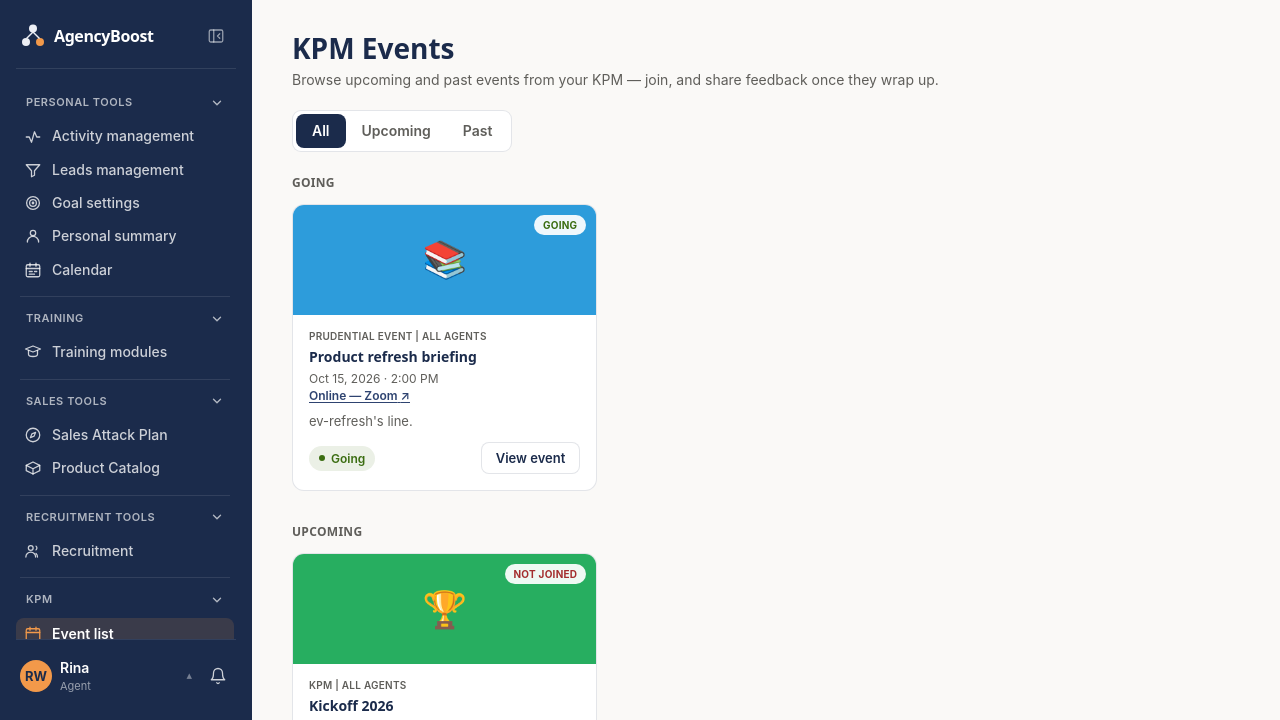
Test: /events, KPM Events (P18.5-T5, T6) › the list, verbatim (T5 AC-4) › P18.5-T5 AC-4 Upcoming shows Going and Upcoming, Past only the past
Step 1. Click the button "Upcoming" → [396, 131], box 346,114 -> 447,148
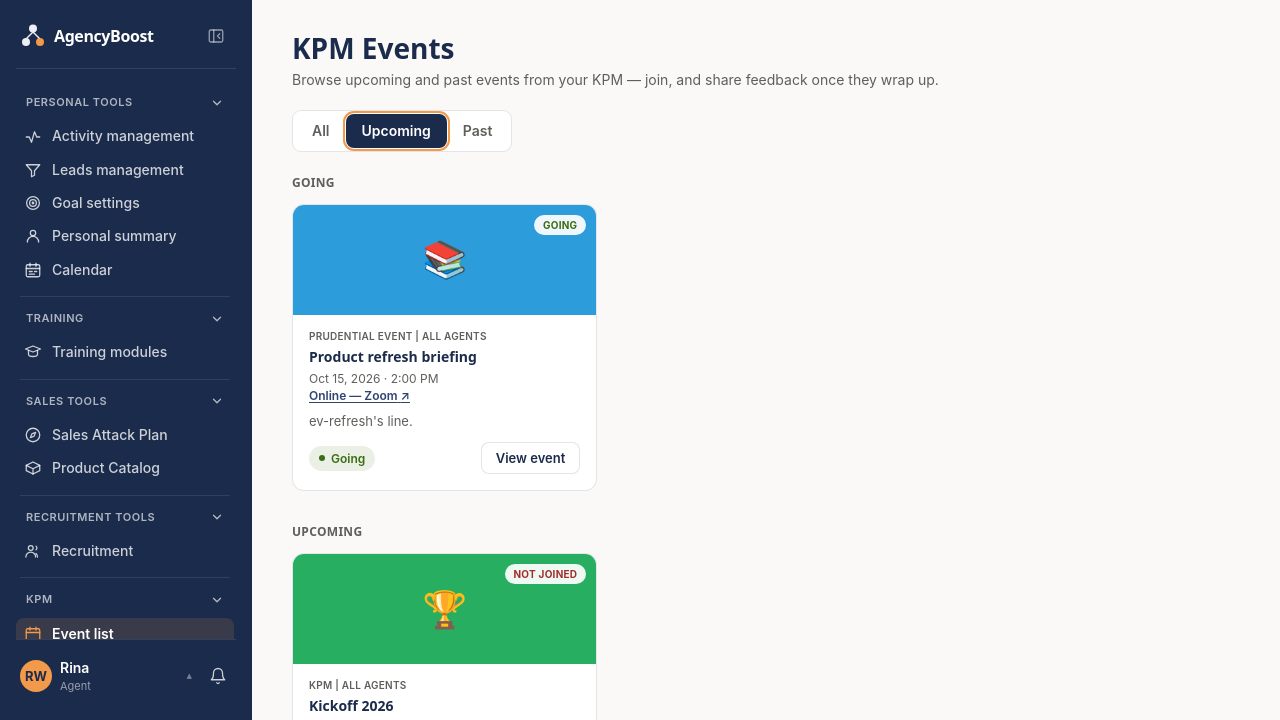
Expected: the headings read "Going", "Upcoming", in this order, 292,174 -> 335,191; 292,524 -> 362,540
Now the button "Upcoming" is pressed, box 346,114 -> 447,148
Step 2. Click the button "Past" → [478, 131], box 447,114 -> 508,148
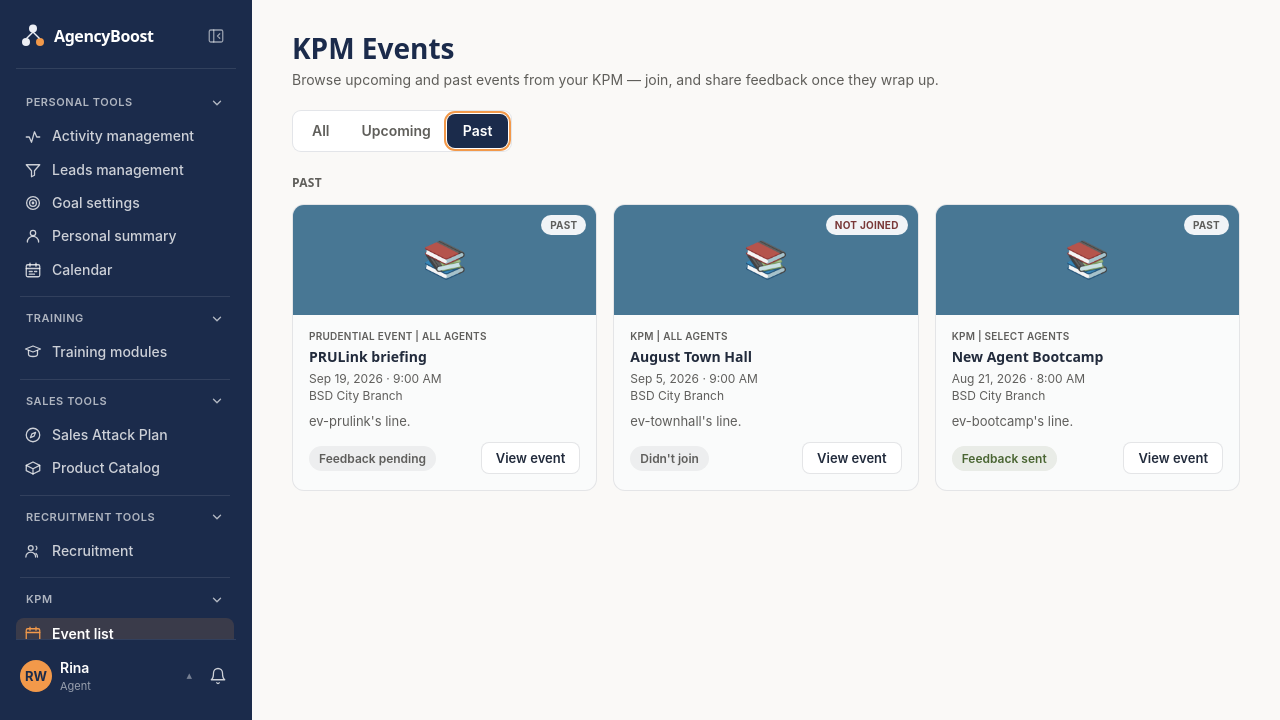
Now the headings read "Past", in this order, box 292,174 -> 322,191
